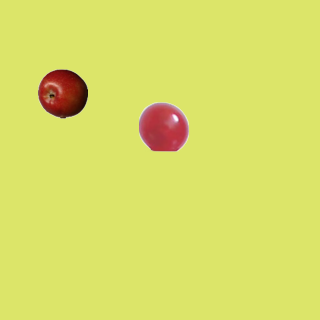Apple Braeburn: (37, 68, 87, 118)
Redcurrant: (138, 101, 188, 151)
